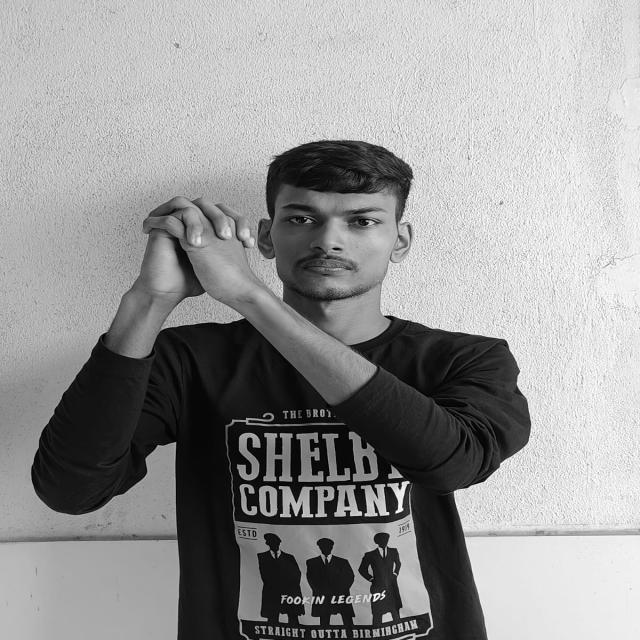Sorry: (139, 193, 257, 304)
